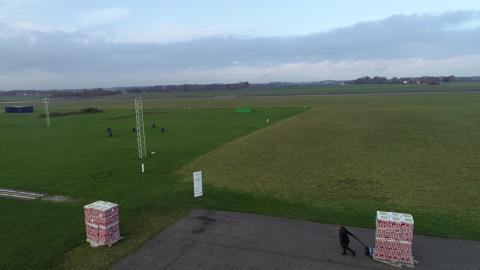RockwoolPallet: (375, 209, 414, 260)
